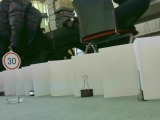speed_30: (1, 51, 22, 72)
